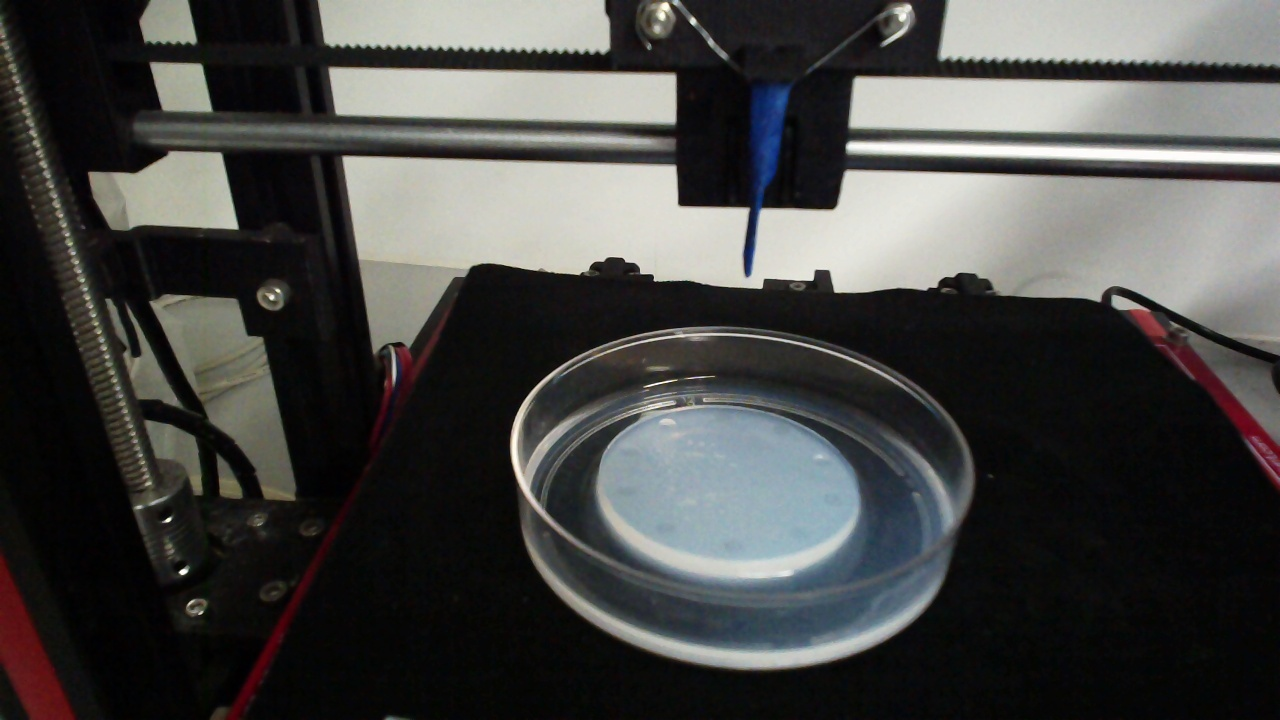groove: (723, 537, 745, 556), (711, 409, 736, 425), (810, 453, 833, 470), (821, 490, 842, 508), (615, 483, 636, 499), (789, 526, 809, 542), (655, 520, 676, 535), (619, 443, 641, 457), (770, 422, 789, 437), (657, 417, 675, 429)
needle: (744, 84, 789, 280)
